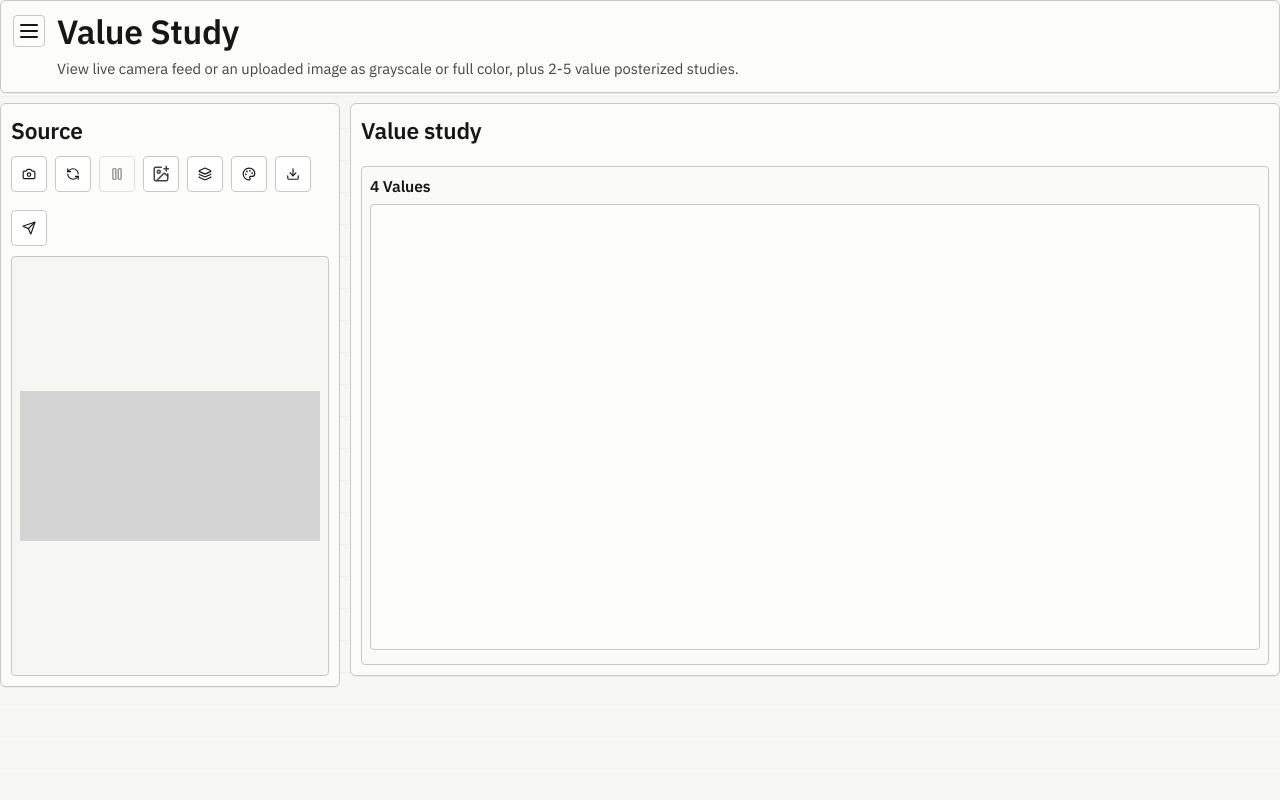
PosterizeViewerPage › creates a new reference board project from the send dialog and sends the image
Click the button named "send to reference board" at (29, 228), box [11,210,47,246]
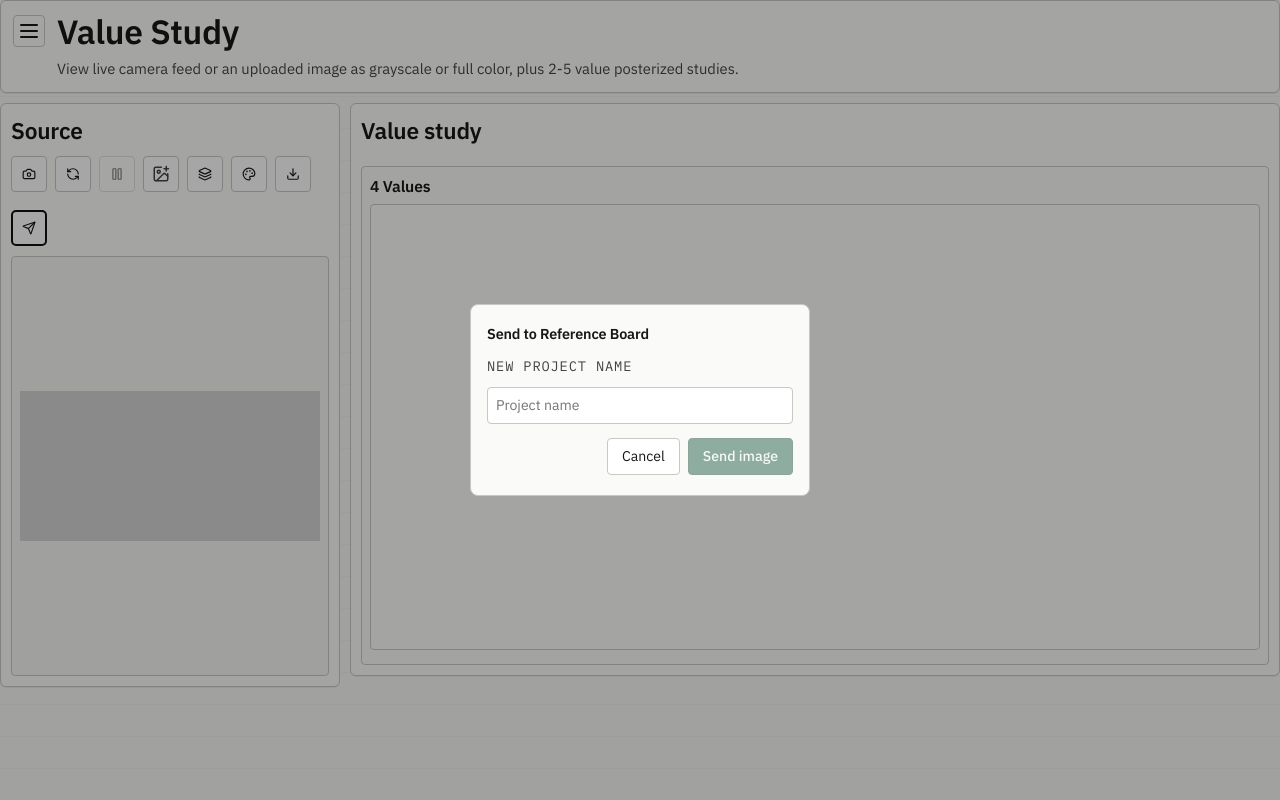
Type "Mood Board" into the field labelled "New project name" at (640, 406), box [487,387,793,424]
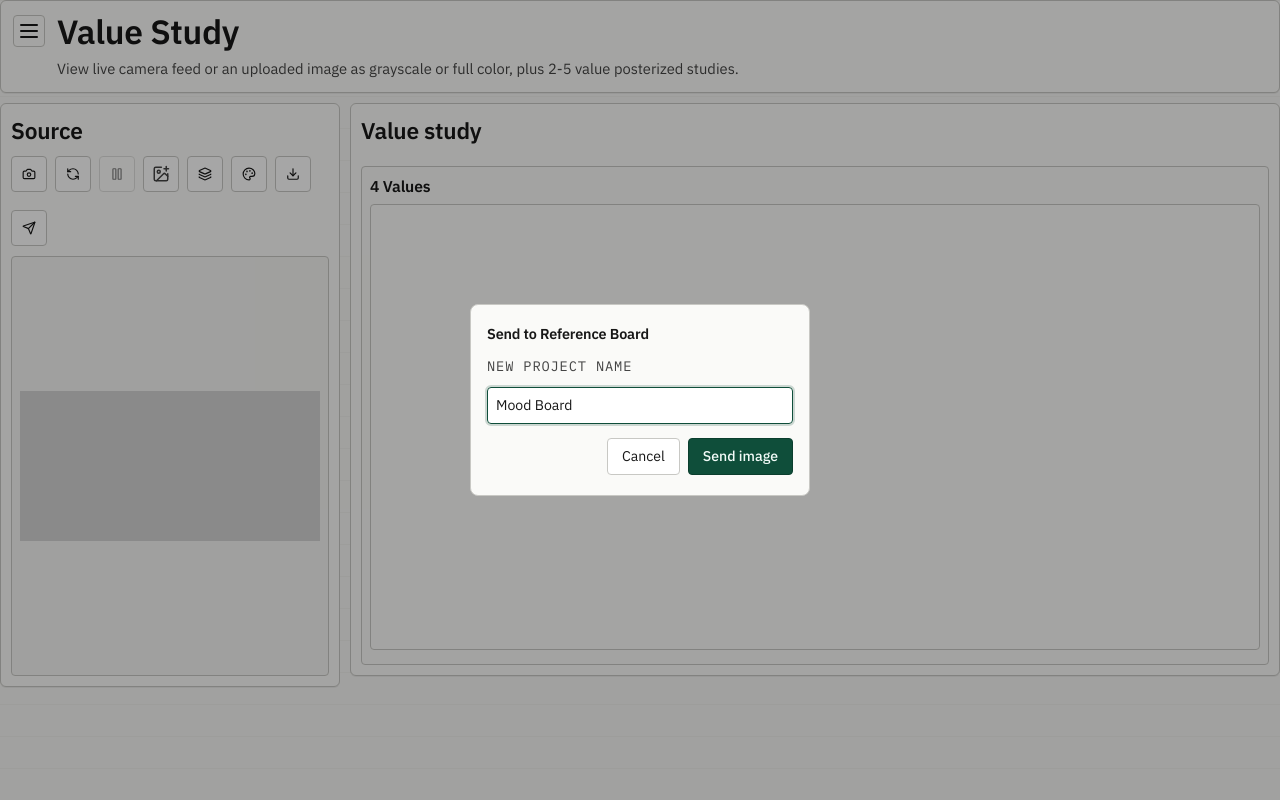
Click the button "Send image" at (740, 457), box [688,438,793,475]
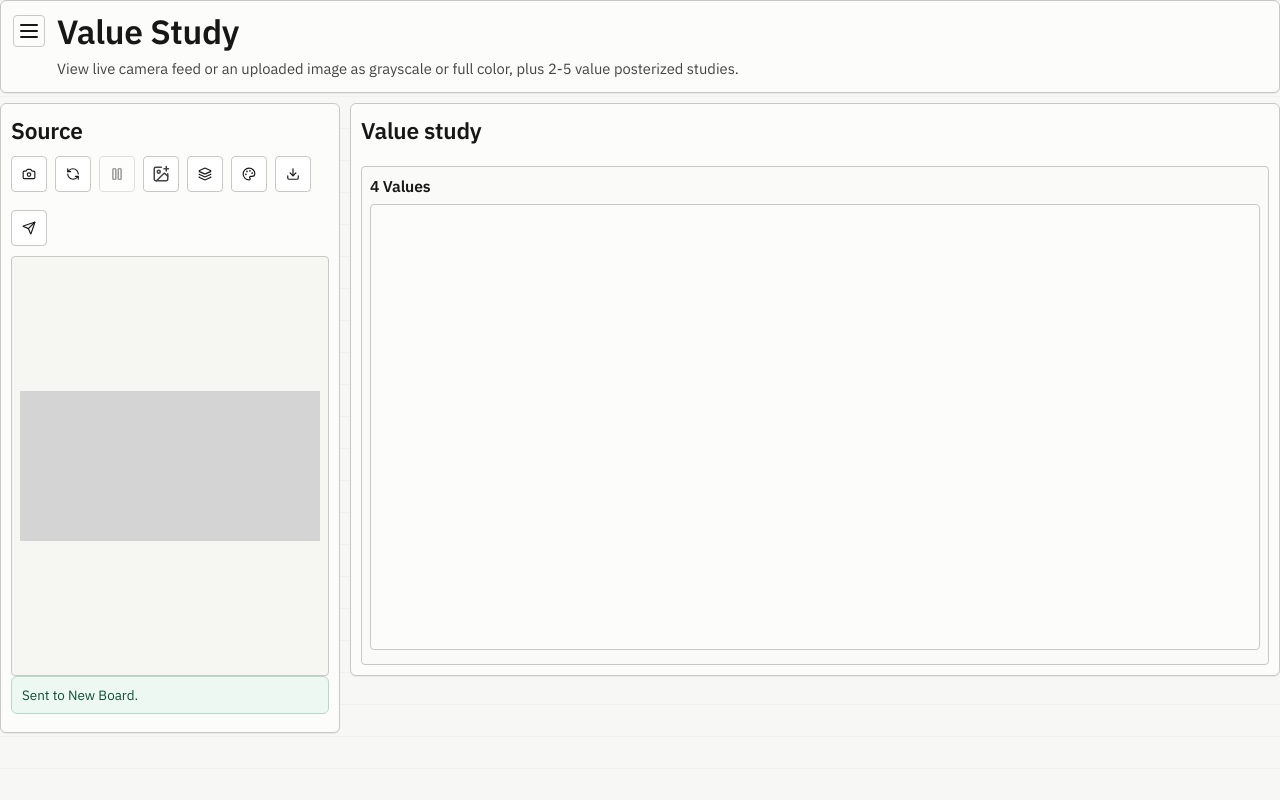
Expected: the message shows "Sent to New Board", [22,686,138,704]
